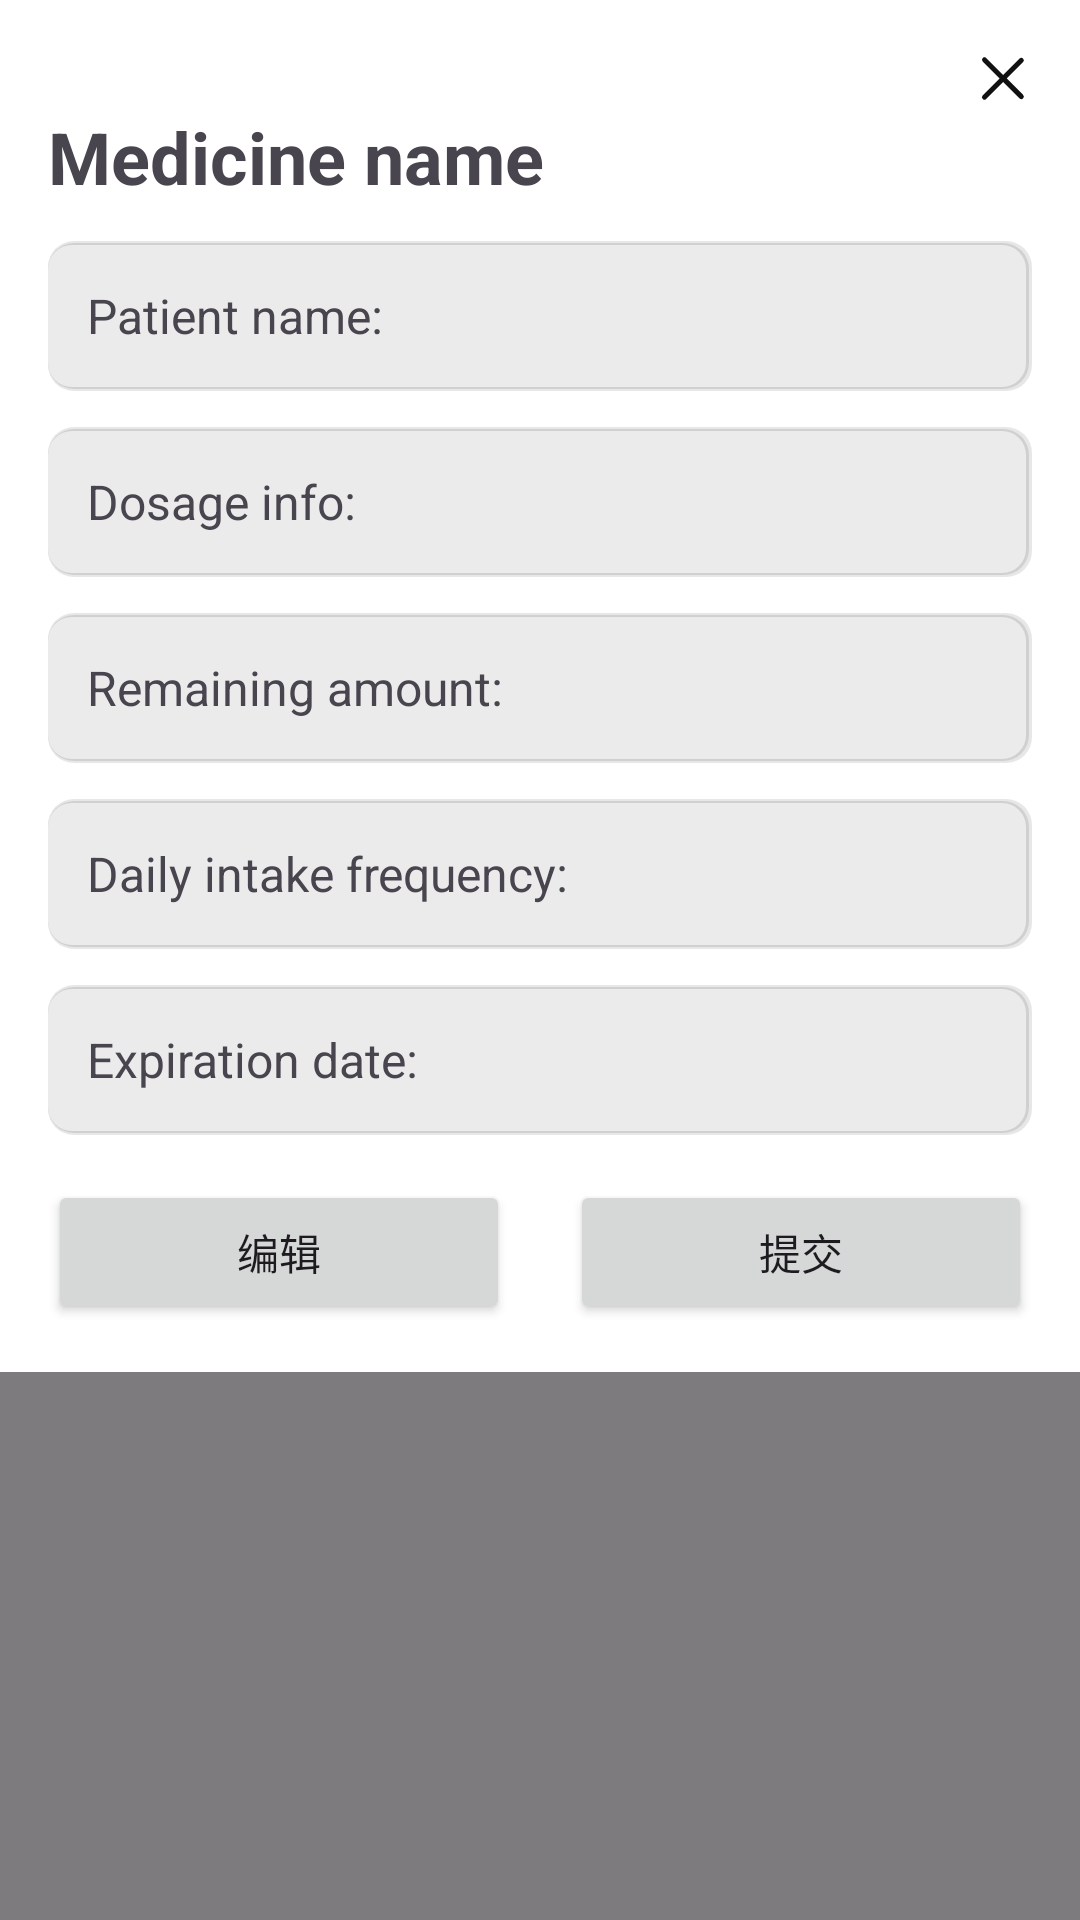

Screen size 1080px×1920px. Icon name, then its box in pixels as (x1, y1, x2, y2):
Close: (982, 57, 1024, 100)
